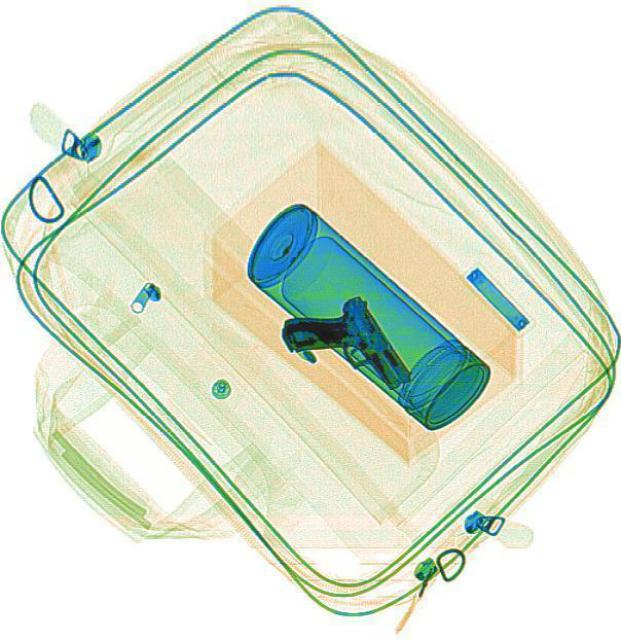Gun: (272, 280, 411, 420)
